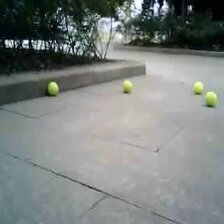tennis: (204, 91, 217, 105), (46, 82, 58, 94), (121, 80, 133, 92), (193, 81, 203, 94)
